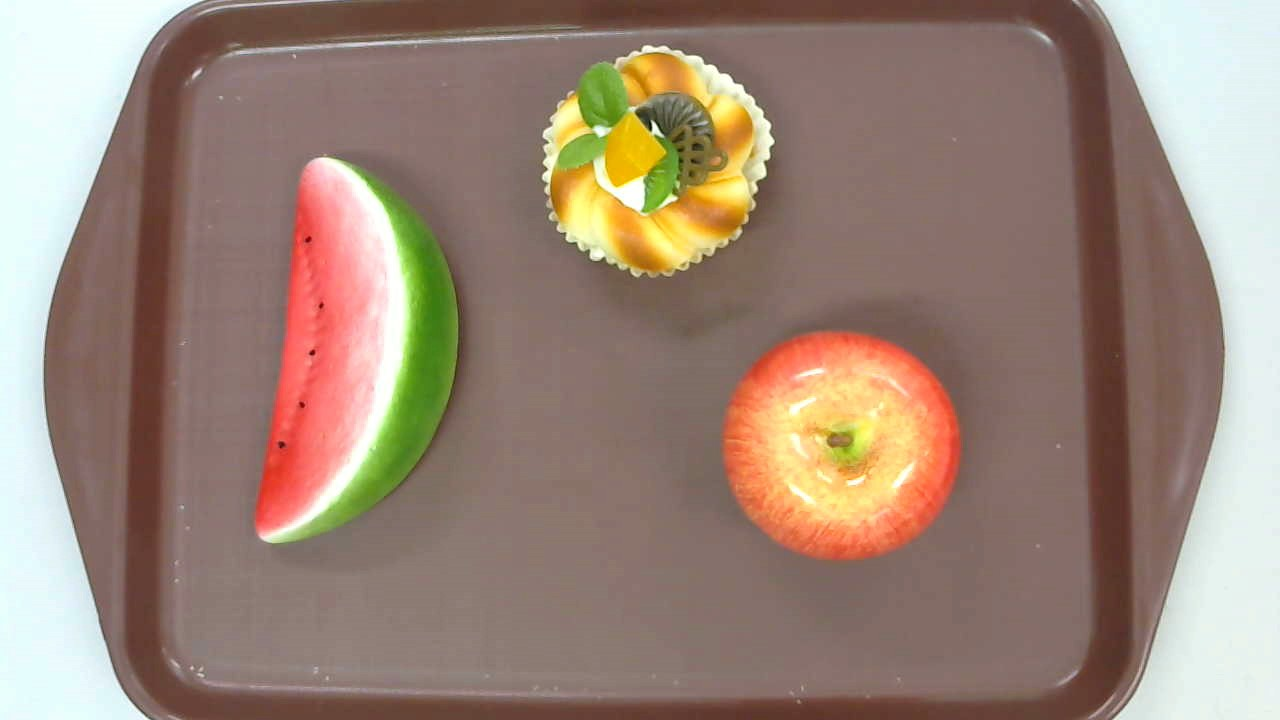fruit tart: (540, 44, 774, 279)
red apple: (721, 329, 960, 559)
water melon: (254, 156, 458, 546)
